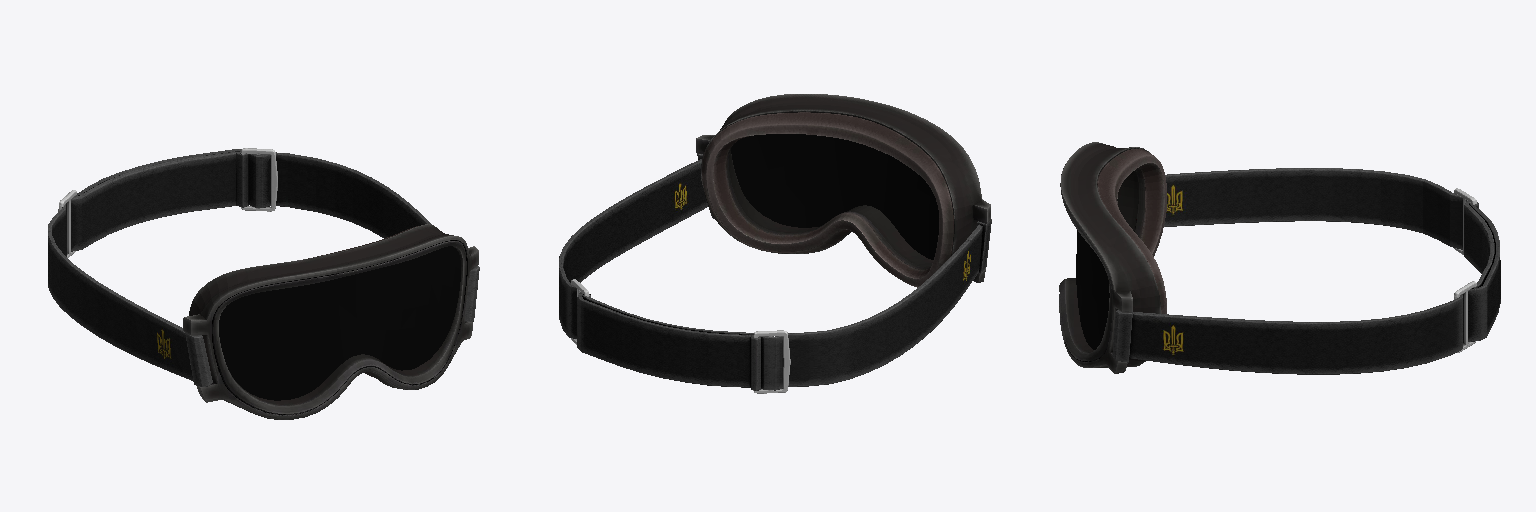
The picture shows the model from 3 angles: view 1: azimuth 30°, elevation 25°; view 2: azimuth 150°, elevation 25°; view 3: azimuth 270°, elevation 25°; orthographic projection.
Parts seen in each view (by area): view 1: rubber_band_3_L, Retopo_Glass_L, Retopo_Mask_L, rubber_band_4_L.1; view 2: rubber_band_3_L, Retopo_Glass_L, Retopo_Mask_L.1, Retopo_Mask_L, rubber_band_4_L.1; view 3: rubber_band_3_L, Retopo_Mask_L, Retopo_Mask_L.1, Retopo_Glass_L, rubber_band_4_L.1.
Boxes of the visible parts, <box> form: rubber_band_3_L: <box>48,149,479,386</box>; Retopo_Glass_L: <box>219,246,460,400</box>; Retopo_Mask_L: <box>183,224,478,419</box>; rubber_band_4_L.1: <box>58,148,277,257</box>; rubber_band_3_L: <box>559,154,991,390</box>; Retopo_Glass_L: <box>731,134,938,259</box>; Retopo_Mask_L.1: <box>702,112,953,287</box>; Retopo_Mask_L: <box>696,94,990,282</box>; rubber_band_4_L.1: <box>571,279,790,393</box>; rubber_band_3_L: <box>1112,168,1500,374</box>; Retopo_Mask_L: <box>1059,142,1160,373</box>; Retopo_Mask_L.1: <box>1097,149,1166,313</box>; Retopo_Glass_L: <box>1076,230,1109,349</box>; rubber_band_4_L.1: <box>1454,188,1476,352</box>.
Bounding box in the file's own units: 883 × 388 × 1057.
Materials: 2 (1 with a texture image).